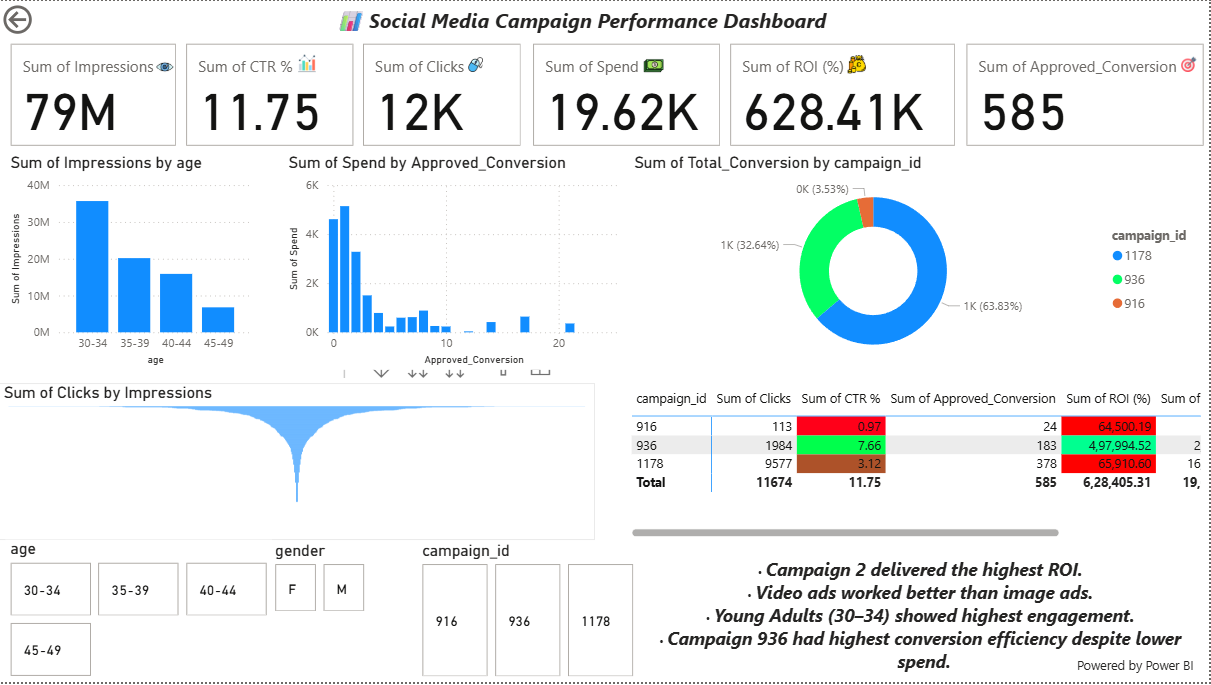

Layout of this report page (visuals, bound fields, positions):
{"tool":"powerbi","page":{"name":"Page 1","canvas":[1280,720],"ordinal":0},"visuals":[{"type":"cardVisual","fields":{"Data":["Sum(TASK 2.Impressions)"]},"box":[7.1,40,185.7,118.6],"z":0},{"type":"cardVisual","fields":{"Data":["Sum(TASK 2.Clicks)"]},"box":[380,40,177.1,118.6],"z":1000},{"type":"cardVisual","fields":{"Data":["Sum(TASK 2.Approved_Conversion)"]},"box":[1018.2,40,261.8,118.2],"z":2000},{"type":"cardVisual","fields":{"Data":["Sum(TASK 2.CTR %)"]},"box":[192.9,40,187.1,118.6],"z":3000},{"type":"cardVisual","fields":{"Data":["Sum(TASK 2.Spend)"]},"box":[560,40,208.6,118.6],"z":4000},{"type":"cardVisual","fields":{"Data":["Sum(TASK 2.ROI (%))"]},"box":[768.6,40,248.6,118.6],"z":5000},{"type":"clusteredColumnChart","fields":{"Category":["TASK 2.age"],"Y":["Sum(TASK 2.Impressions)"]},"box":[7.1,161.4,265.7,228.6],"z":6000},{"type":"donutChart","fields":{"Category":["TASK 2.campaign_id"],"Y":["Sum(TASK 2.Total_Conversion)"]},"box":[667.5,161.2,612.5,228.8],"z":7000},{"type":"funnel","fields":{"Category":["TASK 2.Impressions","TASK 2.Total_Conversion","TASK 2.Clicks"],"Y":["Sum(TASK 2.Clicks)"]},"box":[0,404.3,630,165.7],"z":8000},{"type":"actionButton","box":[0,0,100,40],"z":9000},{"type":"advancedSlicerVisual","fields":{"Values":["TASK 2.age"]},"box":[7.1,570,281.4,150],"z":10000},{"type":"advancedSlicerVisual","fields":{"Values":["TASK 2.gender"]},"box":[287.1,571.4,155.7,80],"z":11000},{"type":"advancedSlicerVisual","fields":{"Values":["TASK 2.campaign_id"]},"box":[442.9,571.4,234.3,148.6],"z":12000},{"type":"textbox","box":[677.1,582.9,585.7,135.7],"z":13000},{"type":"clusteredColumnChart","fields":{"Y":["Sum(TASK 2.Spend)"],"Category":["TASK 2.Approved_Conversion"]},"box":[301.4,161.4,362.9,228.6],"z":14000},{"type":"pivotTable","fields":{"Rows":["TASK 2.campaign_id"],"Values":["Sum(TASK 2.Clicks)","Sum(TASK 2.CTR %)","Sum(TASK 2.Approved_Conversion)","Sum(TASK 2.ROI (%))","Sum(TASK 2.Spend)","Sum(TASK 2.Impressions)"]},"box":[663.8,405,612.5,166.2],"z":15000},{"type":"textbox","box":[351.4,0,625.7,40],"z":16000},{"type":"image","box":[677.3,53.3,30.7,30.7],"z":17000},{"type":"image","box":[892.5,51.9,29.4,31.2],"z":18000},{"type":"image","box":[1245.6,51.9,26.2,31.2],"z":19000},{"type":"image","box":[311.2,47.5,28.7,37.5],"z":20000},{"type":"image","box":[160.9,56.4,28.2,28.2],"z":21000},{"type":"image","box":[491.9,52.5,25.6,28.7],"z":22000},{"type":"textbox","box":[1135.7,688.6,144.3,30],"z":23000}]}

Visuals, with their boxes in screenshot pixels (x1, y1, x2, y2), scaled from the page's 1280x720 canvas onto the 1211x685 screenshot:
cardVisual - Sum(TASK 2.Impressions): bbox(7, 38, 182, 151)
cardVisual - Sum(TASK 2.Clicks): bbox(360, 38, 527, 151)
cardVisual - Sum(TASK 2.Approved_Conversion): bbox(963, 38, 1210, 151)
cardVisual - Sum(TASK 2.CTR %): bbox(183, 38, 360, 151)
cardVisual - Sum(TASK 2.Spend): bbox(530, 38, 727, 151)
cardVisual - Sum(TASK 2.ROI (%)): bbox(727, 38, 962, 151)
clusteredColumnChart - TASK 2.age x Sum(TASK 2.Impressions): bbox(7, 154, 258, 371)
donutChart - TASK 2.campaign_id x Sum(TASK 2.Total_Conversion): bbox(632, 153, 1210, 371)
funnel - TASK 2.Impressions x TASK 2.Total_Conversion: bbox(0, 385, 596, 542)
actionButton: bbox(0, 0, 95, 38)
advancedSlicerVisual - TASK 2.age: bbox(7, 542, 273, 684)
advancedSlicerVisual - TASK 2.gender: bbox(272, 544, 419, 620)
advancedSlicerVisual - TASK 2.campaign_id: bbox(419, 544, 641, 684)
textbox: bbox(641, 555, 1195, 684)
clusteredColumnChart - Sum(TASK 2.Spend) x TASK 2.Approved_Conversion: bbox(285, 154, 628, 371)
pivotTable - TASK 2.campaign_id x Sum(TASK 2.Clicks): bbox(628, 385, 1207, 543)
textbox: bbox(332, 0, 924, 38)
image: bbox(641, 51, 670, 80)
image: bbox(844, 49, 872, 79)
image: bbox(1178, 49, 1203, 79)
image: bbox(294, 45, 322, 81)
image: bbox(152, 54, 179, 80)
image: bbox(465, 50, 490, 77)
textbox: bbox(1074, 655, 1210, 684)
